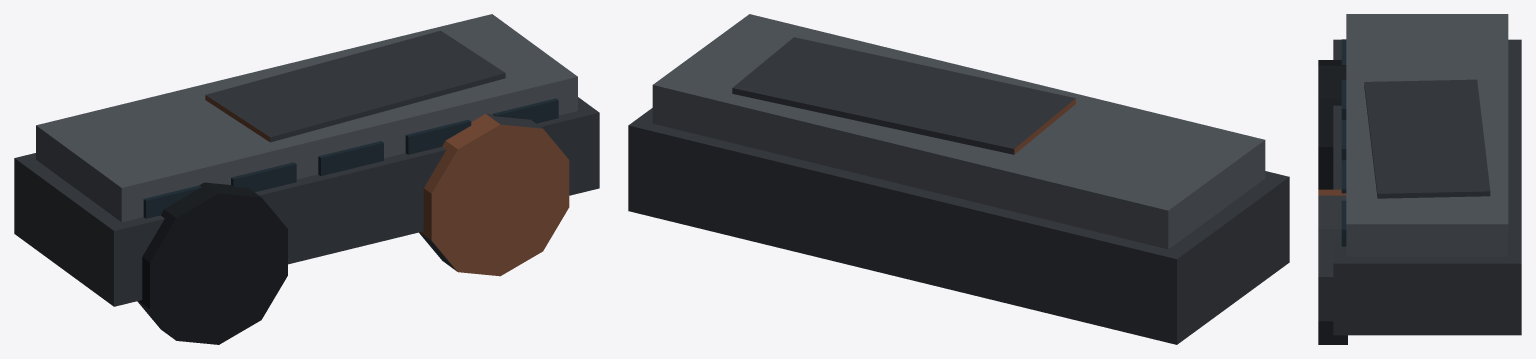
File: bus.glb
3 renders of one model, left to right at view 1: azimuth 30°, elevation 25°; view 2: azimuth 150°, elevation 25°; view 3: azimuth 270°, elevation 25°, orthographic. The views are drawn at different scales.
Visible parts, largest first — view 1: bus; view 2: bus; view 3: bus.
Boxes of the visible parts, left/top/right/bottom form: bus: left=14, top=14, right=599, bottom=344; bus: left=628, top=14, right=1289, bottom=344; bus: left=1318, top=14, right=1521, bottom=344.
Bounding box in the file's own units: 9 × 3.04 × 3.45.
